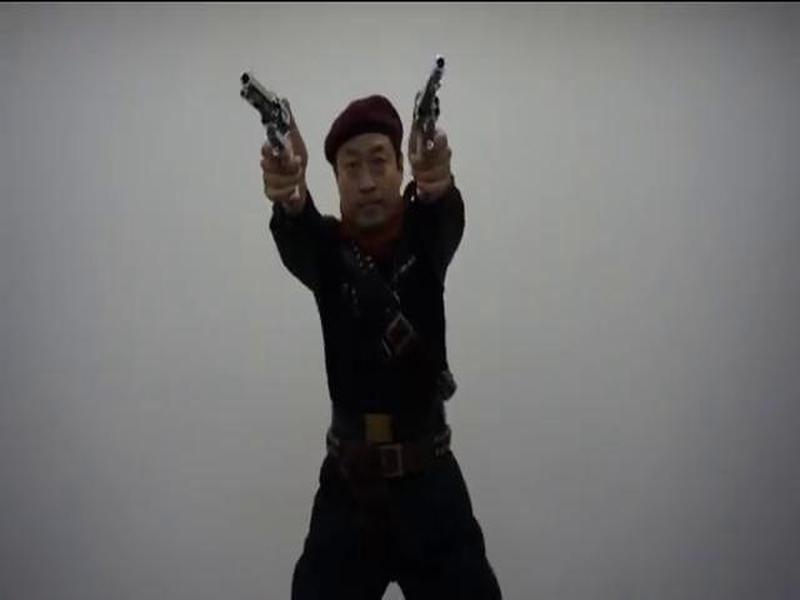Revolver: (223, 69, 319, 223), (406, 42, 461, 184)
